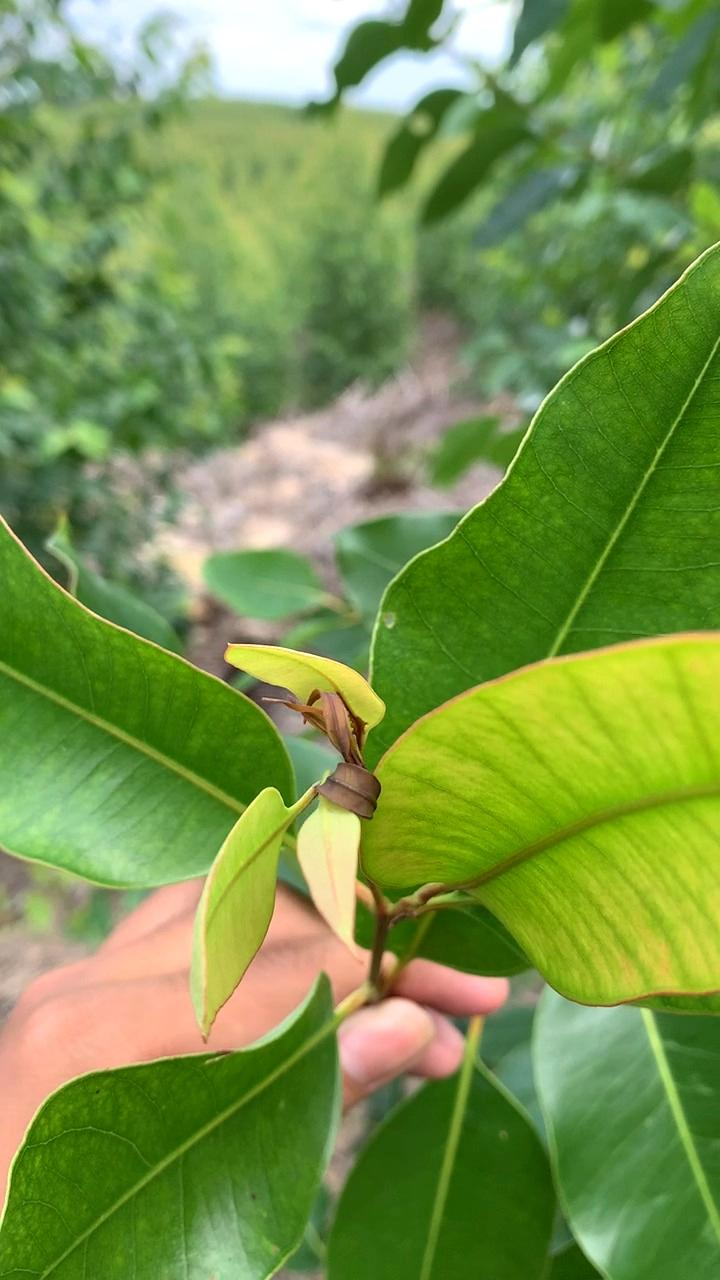Helopeltis-Withered Sprout: (258, 668, 411, 853)
